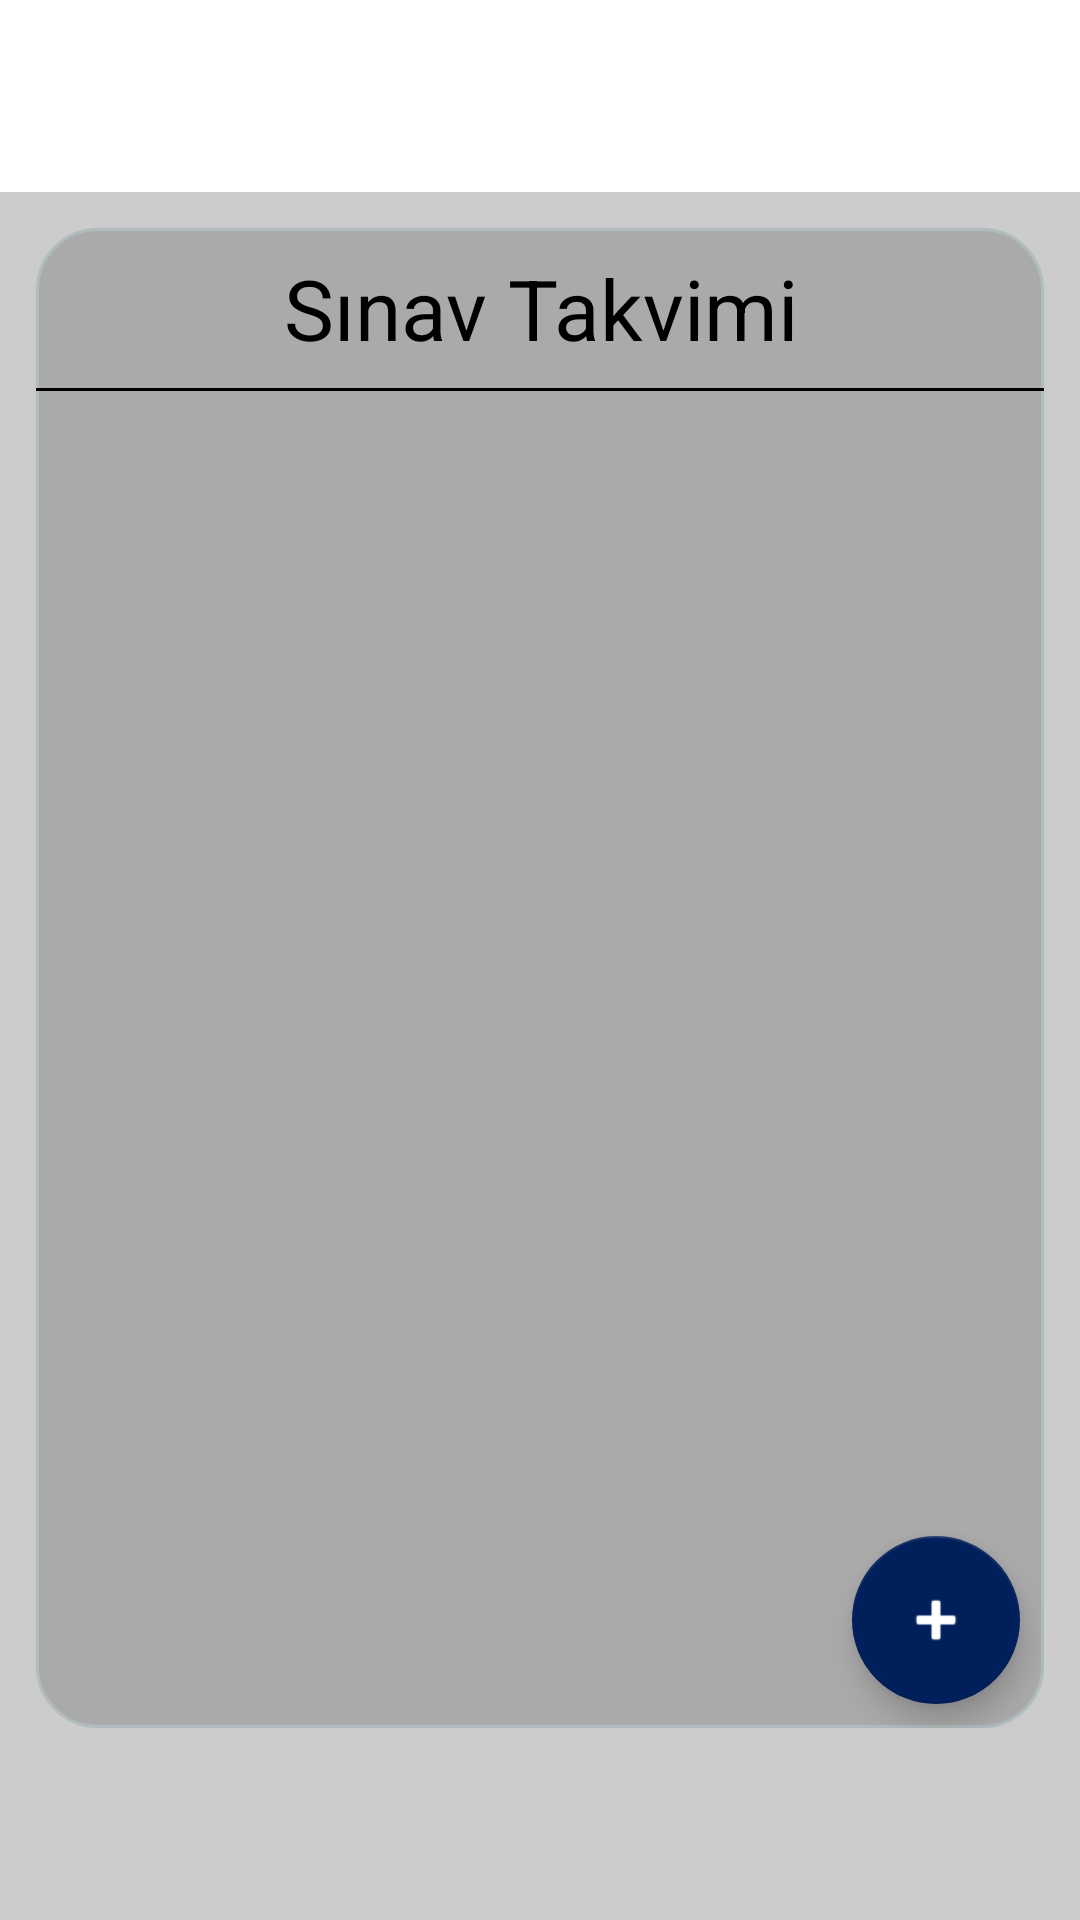

Named icons in this screenshot (1080px x 1920px) and their bounding boxes, (x1, y1, x2, y2):
Ders Programı Ekle: (852, 1536, 1020, 1704)
